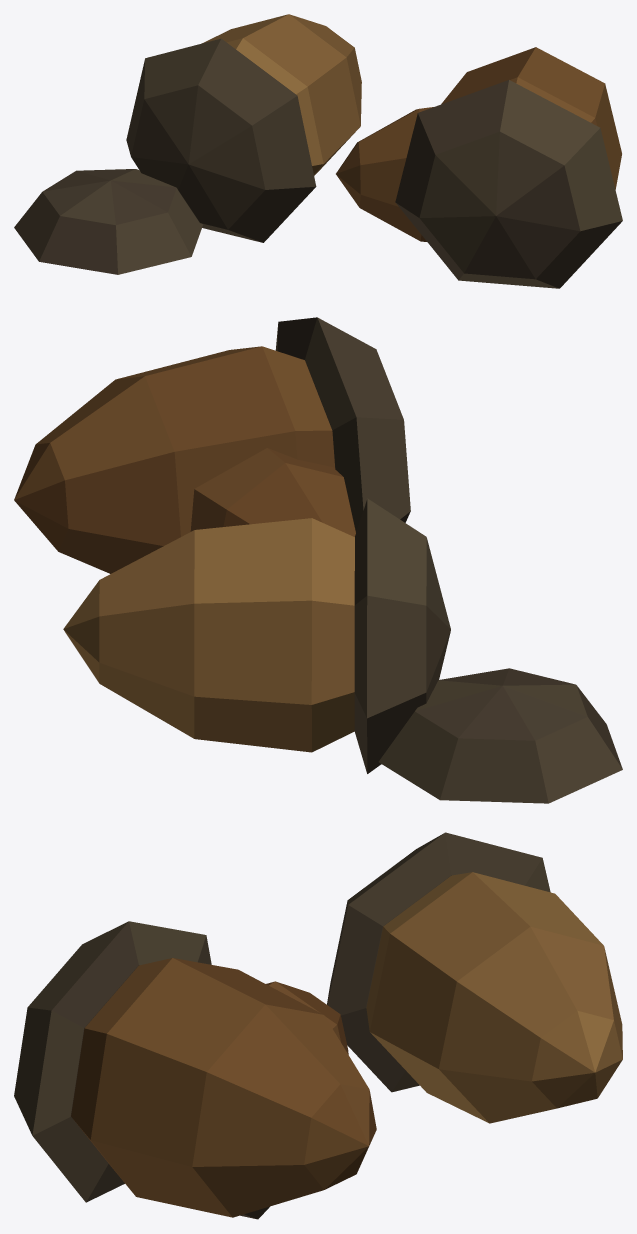
Rendered from fruit_ground_acorns_a.glb.
The picture shows the model from 3 angles, top to bottom: view 1: azimuth 30°, elevation 25°; view 2: azimuth 150°, elevation 25°; view 3: azimuth 270°, elevation 25°; orthographic projection. The views are drawn at different scales.
Visible parts, largest first — view 1: fruit_ground_acorns_a; view 2: fruit_ground_acorns_a; view 3: fruit_ground_acorns_a.
Boxes of the visible parts, x1,y1,x2,y2 form: fruit_ground_acorns_a: [14, 14, 622, 288]; fruit_ground_acorns_a: [14, 317, 622, 803]; fruit_ground_acorns_a: [14, 832, 622, 1219].
Size of the model in its own units: 0.7755 by 0.2993 by 0.6339.
